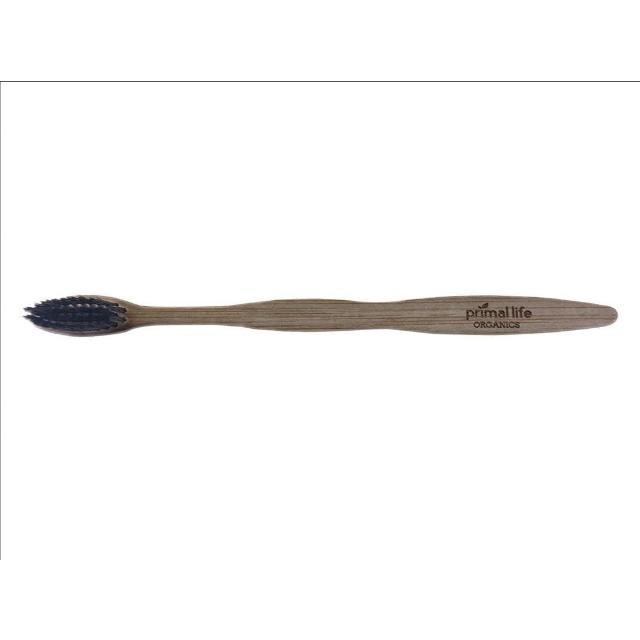toothbrush: (6, 272, 640, 366)
